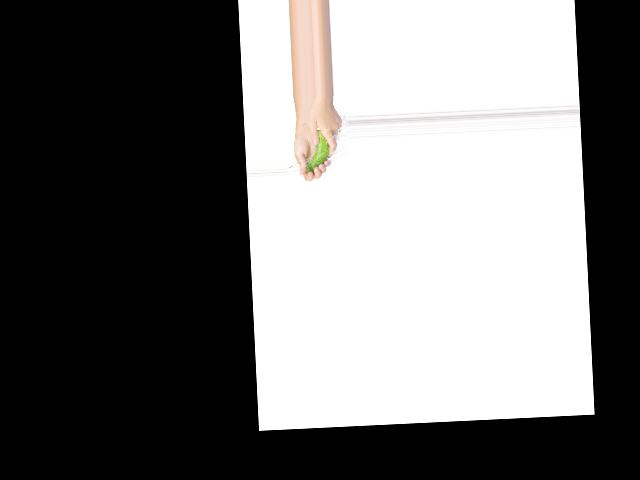cucumber: (304, 128, 331, 173)
